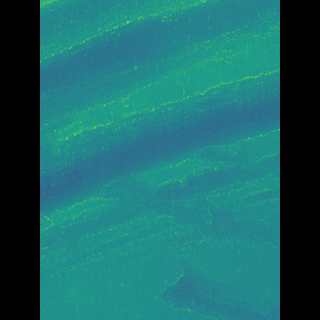Loch: (70, 0, 250, 245)
